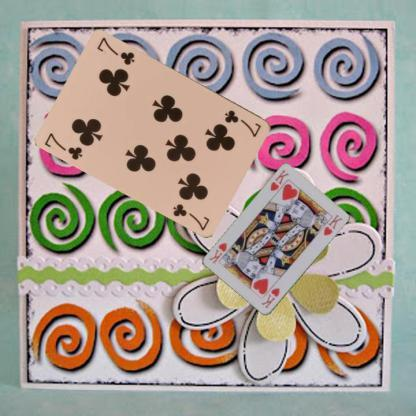7c: (222, 107, 263, 139), (43, 130, 84, 161)
Kh: (258, 284, 282, 310), (268, 167, 290, 192)
